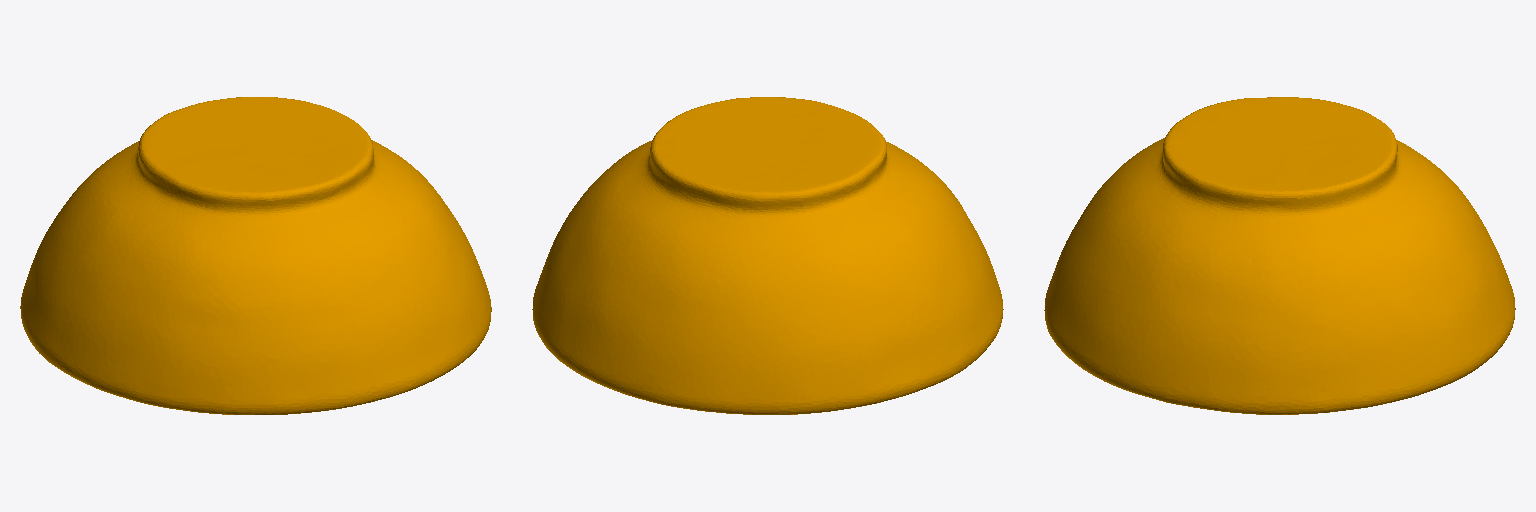
The robot description file, URDF, robot "root":
<robot name="root">
  <link name="link_original">
    <visual>
      <origin xyz="0 0 0" rpy="0 0 0"/>
      <geometry>
        <mesh filename="frame_000000_object_mesh_target_centered.obj" scale="1.0000E+00 1.0000E+00 1.0000E+00"/>
      </geometry>
    </visual>
    <inertial>
      <origin xyz="0 0 0" rpy="0 0 0"/>
      <inertia ixx="1.11E-03" ixy="-5.42E-06" ixz="2.20E-06" iyy="1.11E-03" iyz="-1.10E-07" izz="1.86E-03"/>
    </inertial>
    <collision>
      <origin xyz="0 0 0" rpy="0 0 0"/>
      <geometry>
        <mesh filename="coacd_allinone.obj" scale="1.0000E+00 1.0000E+00 1.0000E+00"/>
      </geometry>
    </collision>
  </link>
</robot>

--- What the picture shows (computed from the rendered views, not written in the file) ---
The picture shows the robot from 3 angles, left to right: view 1: azimuth 30°, elevation 25°; view 2: azimuth 150°, elevation 25°; view 3: azimuth 270°, elevation 25°; orthographic projection.
Robot: root — 1 links, 0 joints (none); root link link_original; default pose: all joints at 0.
Visible links, largest first — view 1: link_original; view 2: link_original; view 3: link_original.
Link boxes in pixels (x1,y1,x2,y2): link_original: [20, 97, 491, 414]; link_original: [532, 97, 1003, 414]; link_original: [1044, 97, 1515, 414].
Size in the robot's own frame: 0.1838 by 0.1839 by 0.075 metres.
Meshes: 1 distinct files referenced, 1 mesh visuals loaded (1 OBJ).
